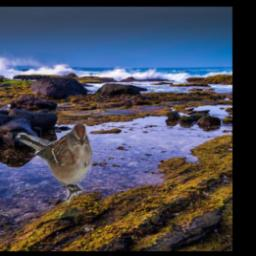Sparrow: (16, 119, 93, 205)
